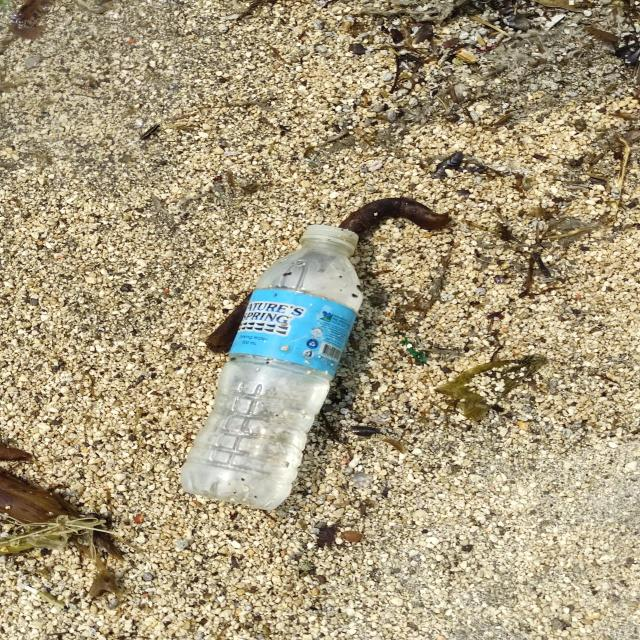plastic_waste: (178, 224, 366, 512)
